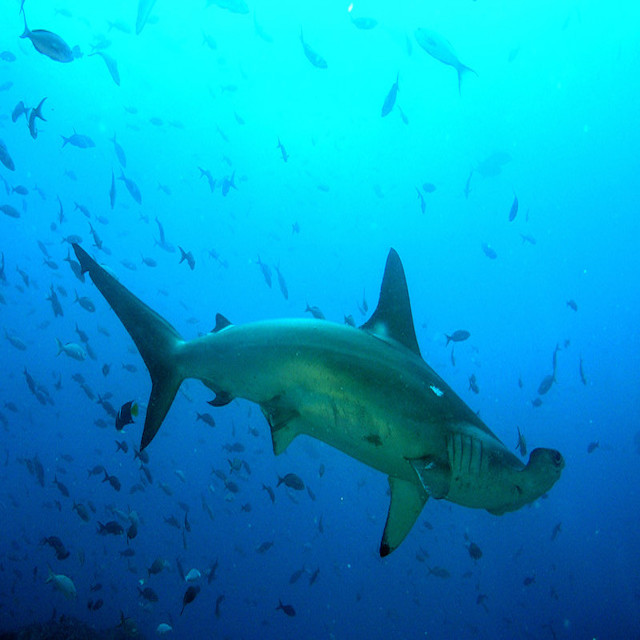hammerhead: (369, 332, 593, 558)
